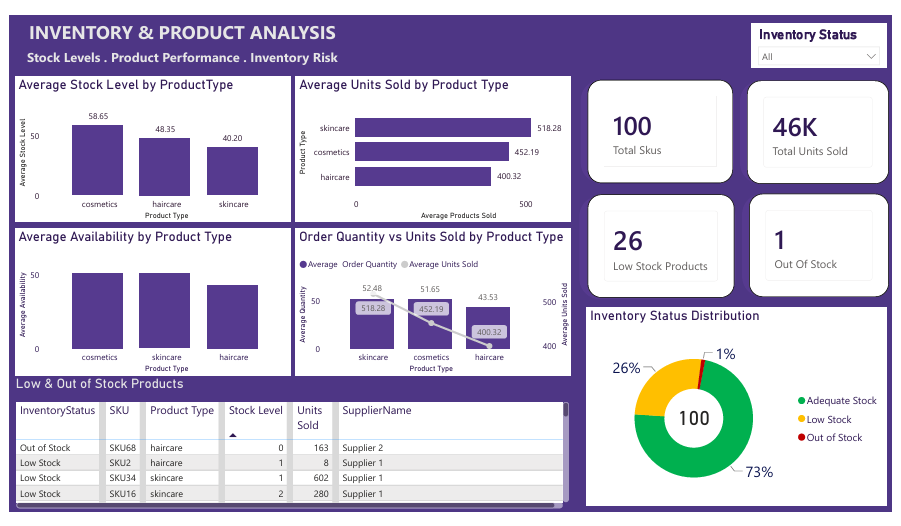

What the dashboard file says about the page in this screenshot:
{"tool":"powerbi","page":{"name":"Inventory & Product Analysis","canvas":[1280,720],"ordinal":1},"visuals":[{"type":"textbox","box":[0,0,500.5,53.2],"z":0},{"type":"textbox","box":[0,42.2,500.5,50.1],"z":1000},{"type":"slicer","fields":{"Values":["supplychainanalytics supply_chain_data.InventoryStatus"]},"box":[1074.6,10.9,197.1,64.1],"z":2000},{"type":"clusteredColumnChart","title":"Average Stock Level by ProductType","fields":{"Category":["supplychainanalytics supply_chain_data.ProductType"],"Y":["Avg(supplychainanalytics supply_chain_data.StockLevels)"]},"box":[7.8,89.2,400.4,211.2],"z":3000},{"type":"clusteredBarChart","title":"Average  Units Sold by Product Type","fields":{"Category":["supplychainanalytics supply_chain_data.ProductType"],"Y":["Avg(supplychainanalytics supply_chain_data.NumProductsSold)"]},"box":[414.5,89.2,400.4,211.2],"z":4000},{"type":"shape","box":[825.8,260.9,226.8,150],"z":4000,"group":"g2"},{"type":"shape","box":[827.6,93,222.1,150.2],"z":5000,"group":"g1"},{"type":"shape","box":[1062.1,258.1,214.3,150.2],"z":5000,"group":"g3"},{"type":"tableEx","title":"Low & Out of Stock Products ","fields":{"Values":["supplychainanalytics supply_chain_data.InventoryStatus","supplychainanalytics supply_chain_data.SKU","supplychainanalytics supply_chain_data.ProductType","Sum(supplychainanalytics supply_chain_data.StockLevels)","Sum(supplychainanalytics supply_chain_data.NumProductsSold)","supplychainanalytics supply_chain_data.SupplierName"]},"box":[3.9,521.9,812,196.7],"z":5000},{"type":"group","id":"g1","title":"Group 1","box":[827.6,93,222.1,150.2],"z":6000},{"type":"cardVisual","fields":{"Data":["supplychainanalytics supply_chain_data.Total Skus"]},"box":[838,93,210.2,150.2],"z":6000,"group":"g1"},{"type":"shape","box":[1058.9,93.8,217.4,150.2],"z":6000,"group":"g4"},{"type":"group","id":"g2","title":"Group 2","box":[825.8,259.1,226.8,151.7],"z":7000},{"type":"group","id":"g3","title":"Group 3","box":[1062.1,258.1,214.3,150.2],"z":8000},{"type":"cardVisual","fields":{"Data":["supplychainanalytics supply_chain_data.Low Stock Products"]},"box":[838,259.1,213.1,150],"z":8500,"group":"g2"},{"type":"group","id":"g4","title":"Group 4","box":[1058.9,93.8,217.4,150.2],"z":9000},{"type":"cardVisual","fields":{"Data":["supplychainanalytics supply_chain_data.Out Of Stock Products"]},"box":[1072.2,258.1,202.8,150.2],"z":9501,"group":"g3"},{"type":"clusteredColumnChart","title":"Average Availability by Product Type","fields":{"Category":["supplychainanalytics supply_chain_data.ProductType"],"Y":["Avg(supplychainanalytics supply_chain_data.Availability)"]},"box":[7.8,308.1,400.4,214.3],"z":10000},{"type":"cardVisual","fields":{"Data":["supplychainanalytics supply_chain_data.Total Products Sold"]},"box":[1069.1,93.8,205.7,150.2],"z":10502,"group":"g4"},{"type":"lineClusteredColumnComboChart","title":" Order Quantity vs Units Sold by Product Type","fields":{"Category":["supplychainanalytics supply_chain_data.ProductType"],"Y":["Avg(supplychainanalytics supply_chain_data.OrderQuantities)"],"Y2":["Avg(supplychainanalytics supply_chain_data.NumProductsSold)"]},"box":[414.5,308.1,400.4,214.3],"z":11000},{"type":"donutChart","title":" Inventory Status Distribution","fields":{"Category":["supplychainanalytics supply_chain_data.InventoryStatus"],"Y":["CountNonNull(supplychainanalytics supply_chain_data.SKU)"]},"box":[837.3,422.6,434.2,288.2],"z":12000}]}

Visuals, with their boxes in screenshot pixels (x1, y1, x2, y2):
textbox: 2 12 350 49
textbox: 2 41 350 76
slicer - supplychainanalytics supply_chain_data.InventoryStatus: 748 19 885 64
"Average Stock Level by ProductType" clusteredColumnChart: 8 74 286 220
"Average  Units Sold by Product Type" clusteredBarChart: 290 74 568 220
shape: 576 193 733 297
shape: 577 76 731 181
shape: 740 191 888 295
"Low & Out of Stock Products " tableEx: 5 374 569 511
"Group 1" group: 577 76 731 181
cardVisual - supplychainanalytics supply_chain_data.Total Skus: 584 76 730 181
shape: 737 77 888 181
"Group 2" group: 576 192 733 297
"Group 3" group: 740 191 888 295
cardVisual - supplychainanalytics supply_chain_data.Low Stock Products: 584 192 732 296
"Group 4" group: 737 77 888 181
cardVisual - supplychainanalytics supply_chain_data.Out Of Stock Products: 747 191 887 295
"Average Availability by Product Type" clusteredColumnChart: 8 226 286 374
cardVisual - supplychainanalytics supply_chain_data.Total Products Sold: 744 77 887 181
" Order Quantity vs Units Sold by Product Type" lineClusteredColumnComboChart: 290 226 568 374
" Inventory Status Distribution" donutChart: 584 305 885 505
